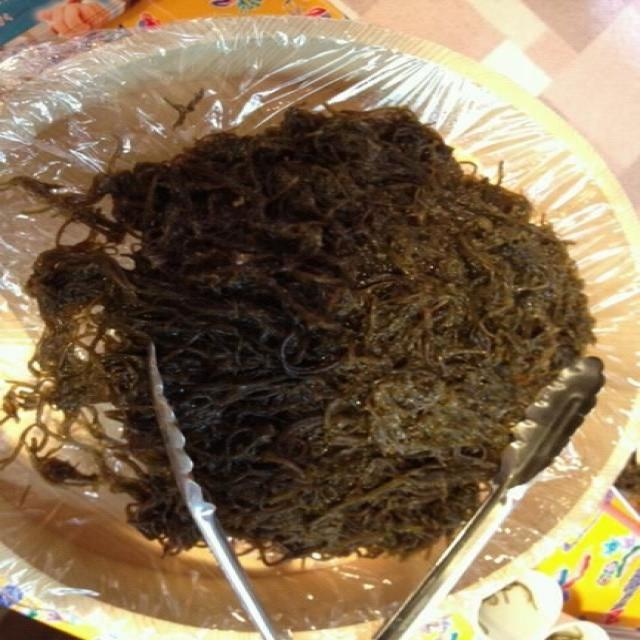蔬菜料理: (18, 16, 613, 631)
